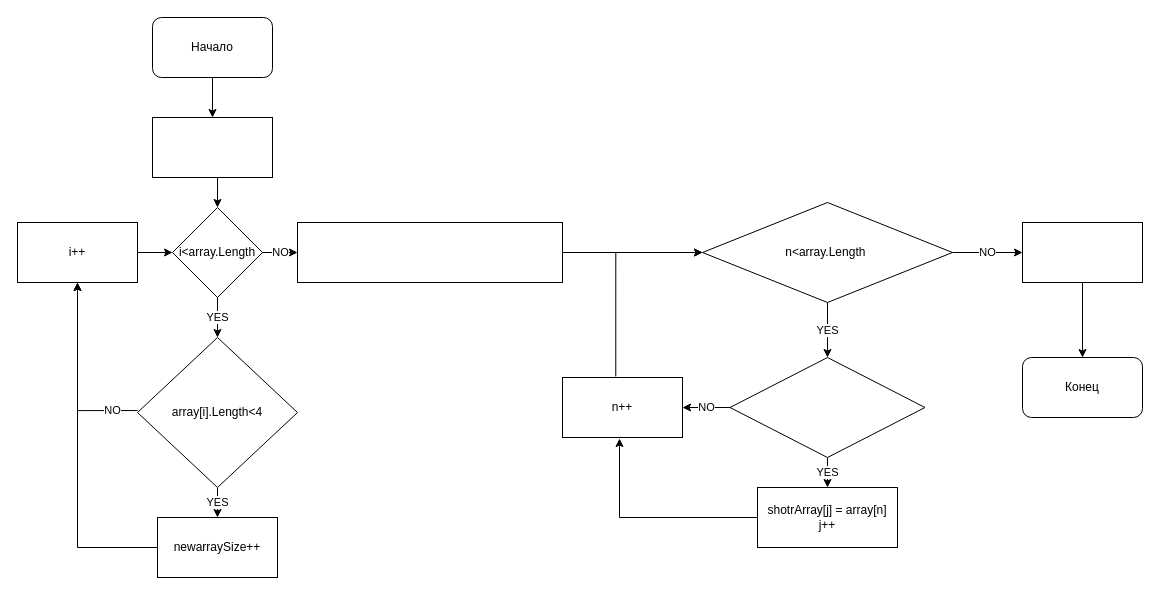
The diagram is 1160 pixels wide and 595 high, and some of its shapes have lost their labels. Each missing label, with the box of its shape:
j<newArraySize and array[n] <4: (729, 356, 925, 458)
Print(shortArray): (1022, 222, 1142, 282)
string[ ] array int newArraySize = 0 int i =0: (152, 116, 272, 178)
string[ ] shortArray = new string[ newArraySize] int j =0 int n =0: (296, 222, 562, 282)
